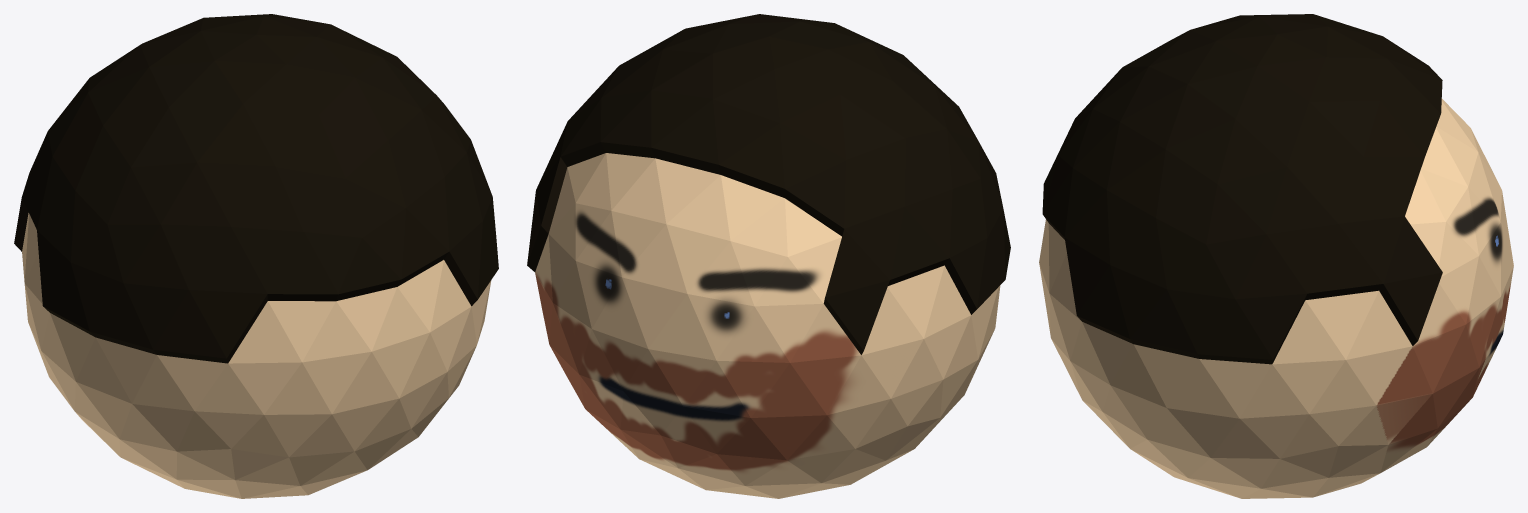
Rendered from footballer1.obj.
The picture shows the model from 3 angles, left to right: view 1: azimuth 30°, elevation 25°; view 2: azimuth 150°, elevation 25°; view 3: azimuth 270°, elevation 25°; orthographic projection.
Parts seen in each view (by area): view 1: Icosphere; view 2: Icosphere; view 3: Icosphere.
Part boxes in pixels (left/top/right/bottom): Icosphere: left=14, top=14, right=498, bottom=498; Icosphere: left=527, top=14, right=1010, bottom=498; Icosphere: left=1039, top=14, right=1513, bottom=498.
Bounding box in the file's own units: 2.06 × 2.07 × 2.
